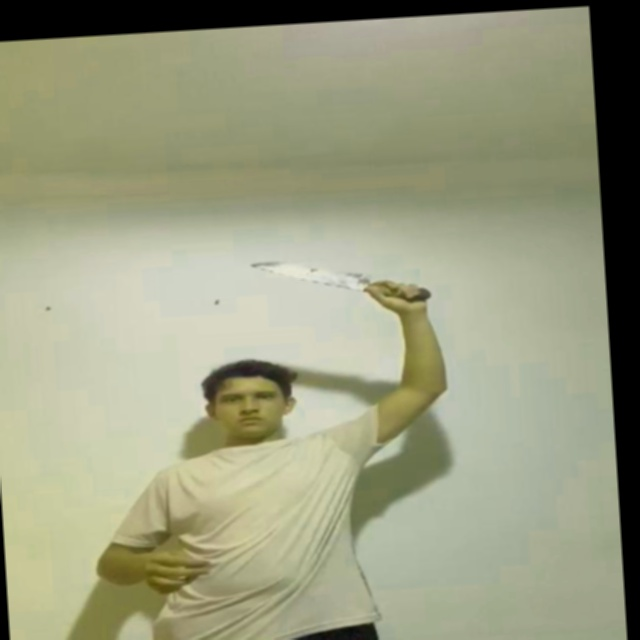Sharp-Object: (249, 253, 375, 292)
